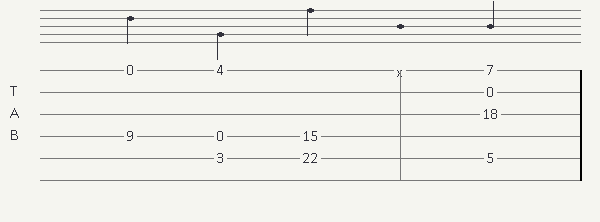0: (126, 63, 138, 77), (216, 129, 228, 143), (486, 85, 498, 99)
15: (302, 129, 322, 143)
18: (482, 107, 502, 121)
22: (302, 151, 322, 165)
3: (216, 151, 228, 165)
4: (216, 63, 228, 77)
5: (486, 151, 498, 165)
7: (486, 63, 498, 77)
9: (126, 129, 138, 143)
x: (396, 65, 407, 76)
